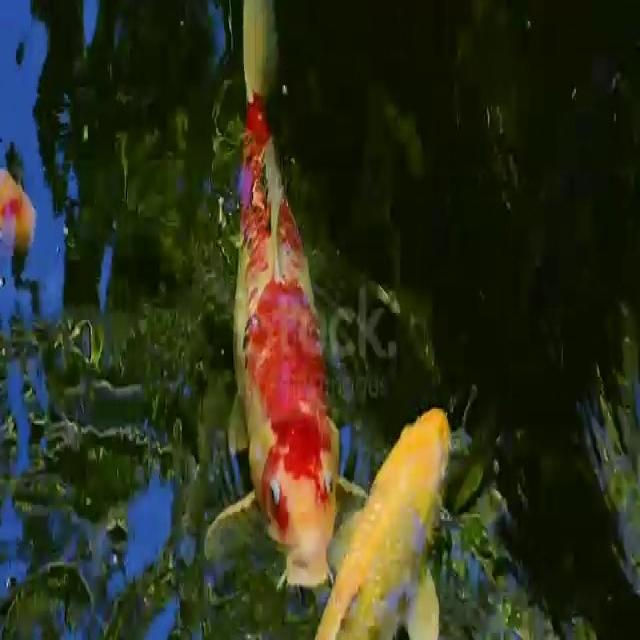fish: (209, 0, 350, 590), (312, 400, 460, 640)
